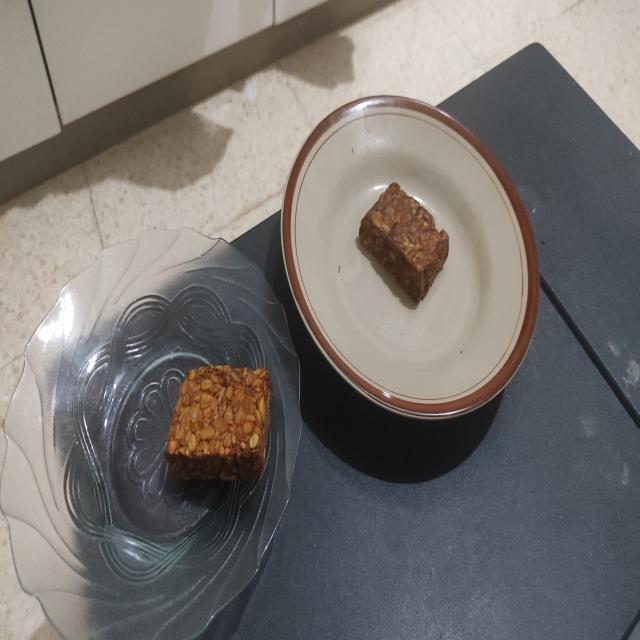tempe_goreng: (165, 365, 274, 480), (359, 183, 448, 302)
